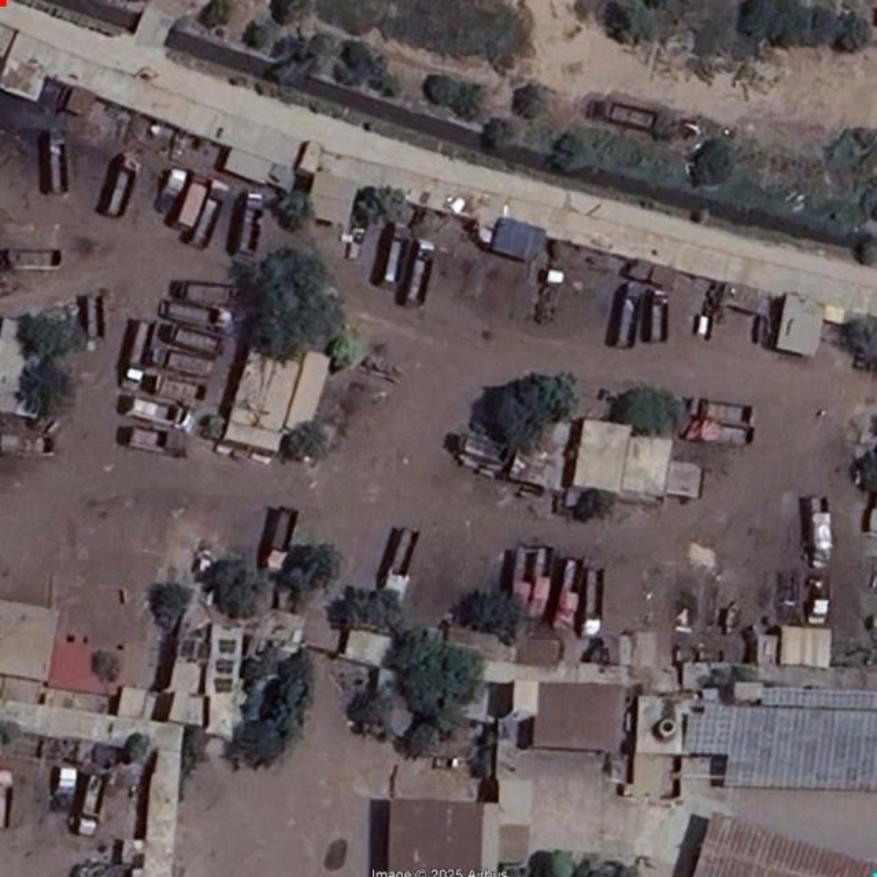Solarpanel: (684, 701, 876, 788), (763, 689, 876, 708), (213, 680, 231, 692), (220, 638, 235, 652), (217, 661, 233, 672)
